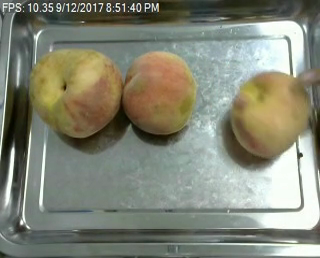Peach: (27, 46, 124, 138), (229, 71, 312, 158), (121, 49, 196, 135)
